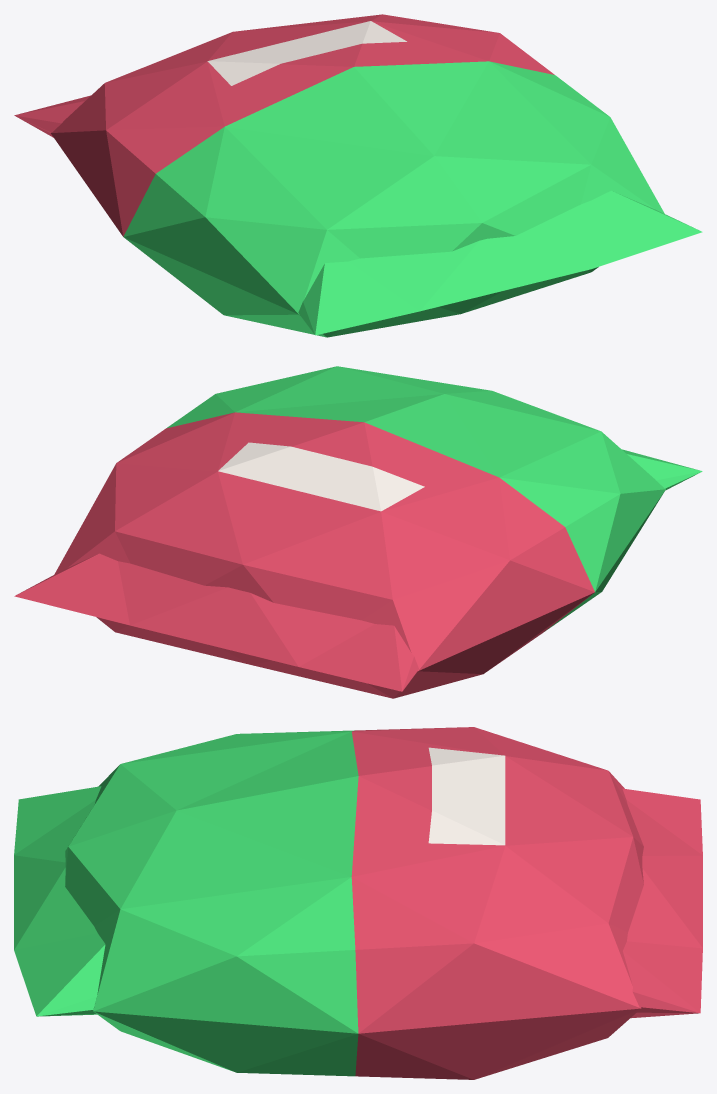
Rendered from Snack1.fbx.
3 views of the same model, one above another, from view 1: azimuth 30°, elevation 25°; view 2: azimuth 150°, elevation 25°; view 3: azimuth 270°, elevation 25° (orthographic). The views are drawn at different scales.
Parts seen in each view (by area): view 1: Snack1; view 2: Snack1; view 3: Snack1.
Boxes of the visible parts, bbox=[...] form: Snack1: bbox=[14, 14, 702, 337]; Snack1: bbox=[14, 366, 702, 698]; Snack1: bbox=[14, 727, 702, 1079].
Size of the model in its own units: 30 by 13.21 by 33.88.
